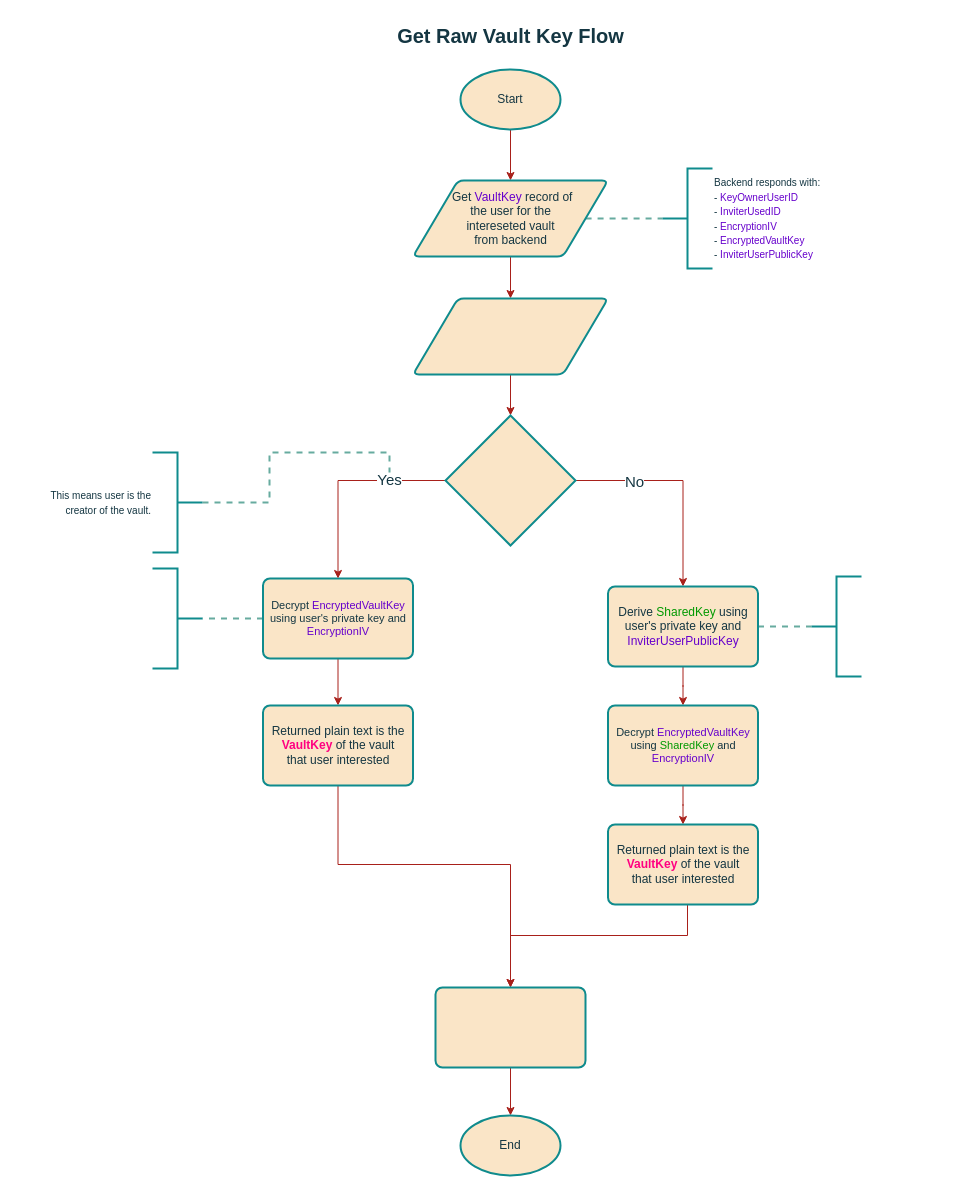
This 973x1193 diagram has some shape labels left out. Each missing label, with the box of its shape:
Decryption is performed using AES-GCM algorithm.: (151, 567, 203, 669)
ECDH key exchange: (810, 575, 862, 677)
Get private key of the user from session storage: (412, 297, 608, 375)
Is KeyOwnerUserID equals to InviterUserID ?: (444, 414, 576, 546)
Return VaultKey: (434, 986, 586, 1068)
